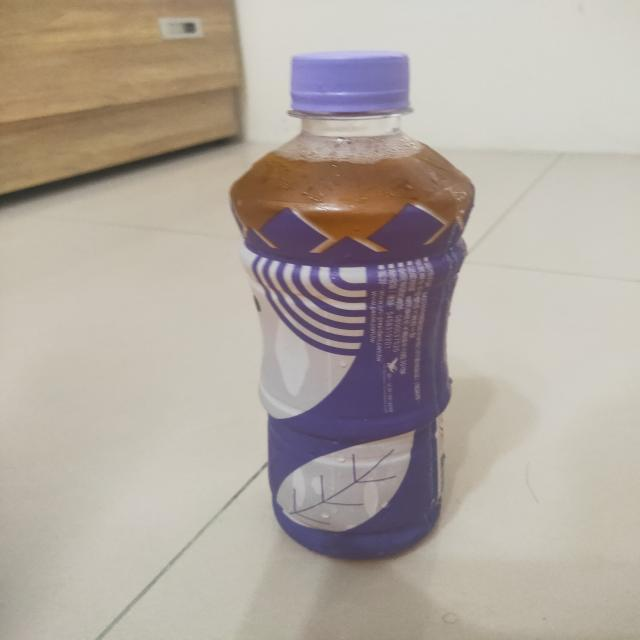ChaLiWong_TsingXinOolong: (223, 42, 468, 564)
